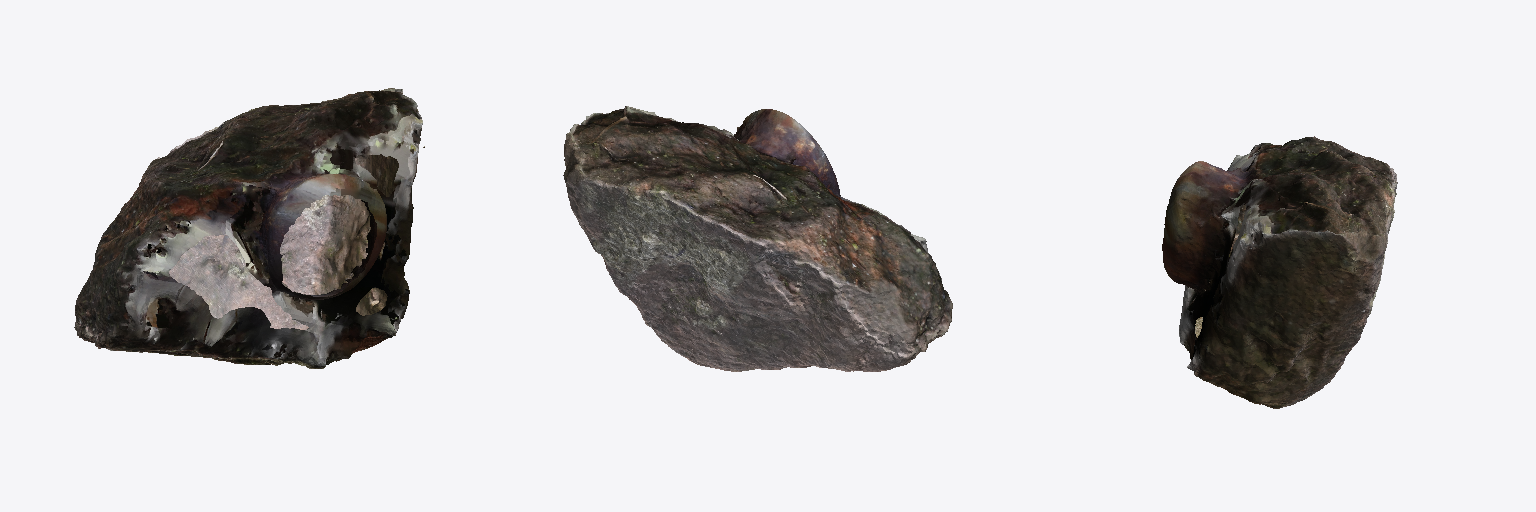
The picture shows the model from 3 angles: view 1: azimuth 30°, elevation 25°; view 2: azimuth 150°, elevation 25°; view 3: azimuth 270°, elevation 25°; orthographic projection.
Size of the model in its own units: 2.75 by 1.81 by 1.64.
Materials: 1 (1 with a texture image).